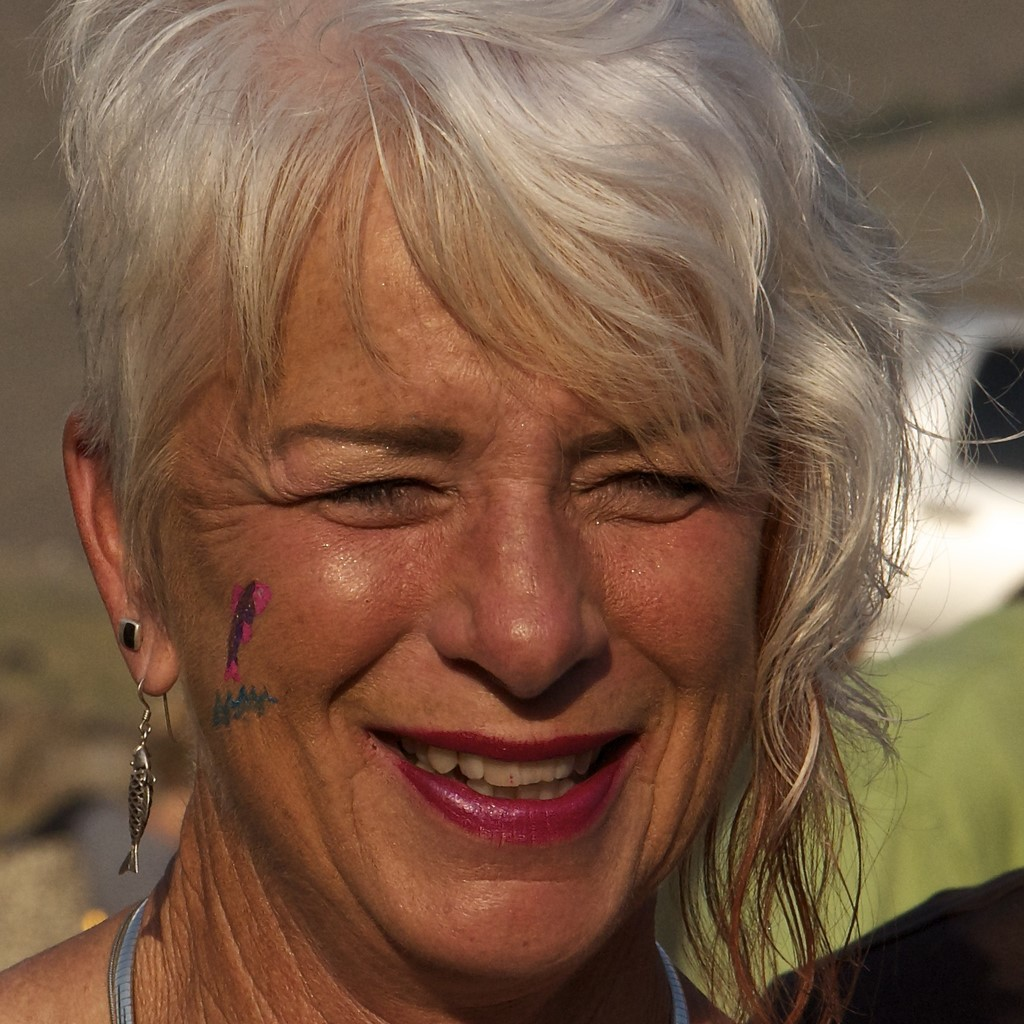sin_mascara: (156, 107, 799, 967)
